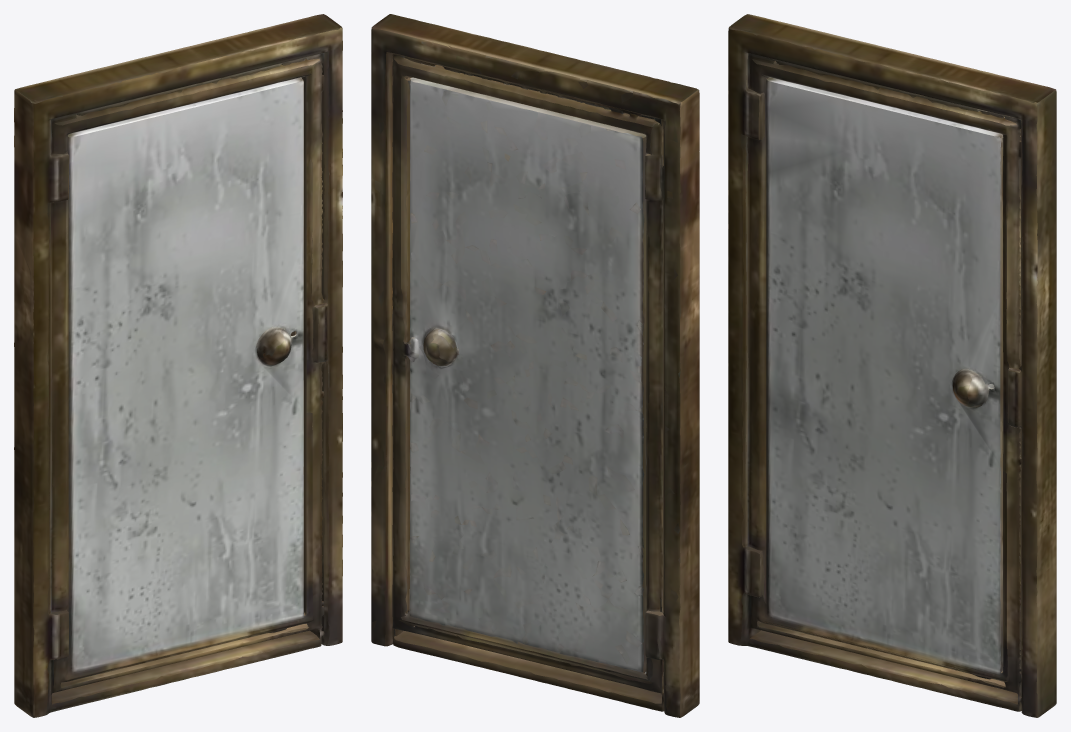
File: obj_basement_shower.glb
3 views of the same model, side by side, from view 1: azimuth 30°, elevation 25°; view 2: azimuth 150°, elevation 25°; view 3: azimuth 330°, elevation 25° (orthographic).
Parts seen in each view (by area): view 1: geometry_0; view 2: geometry_0; view 3: geometry_0.
Boxes of the visible parts, <box> form: geometry_0: <box>14,14,342,717</box>; geometry_0: <box>371,14,699,717</box>; geometry_0: <box>728,14,1056,717</box>.
Size of the model in its own units: 2.03 by 3.85 by 0.3699.
Materials: 1 (1 with a texture image).
